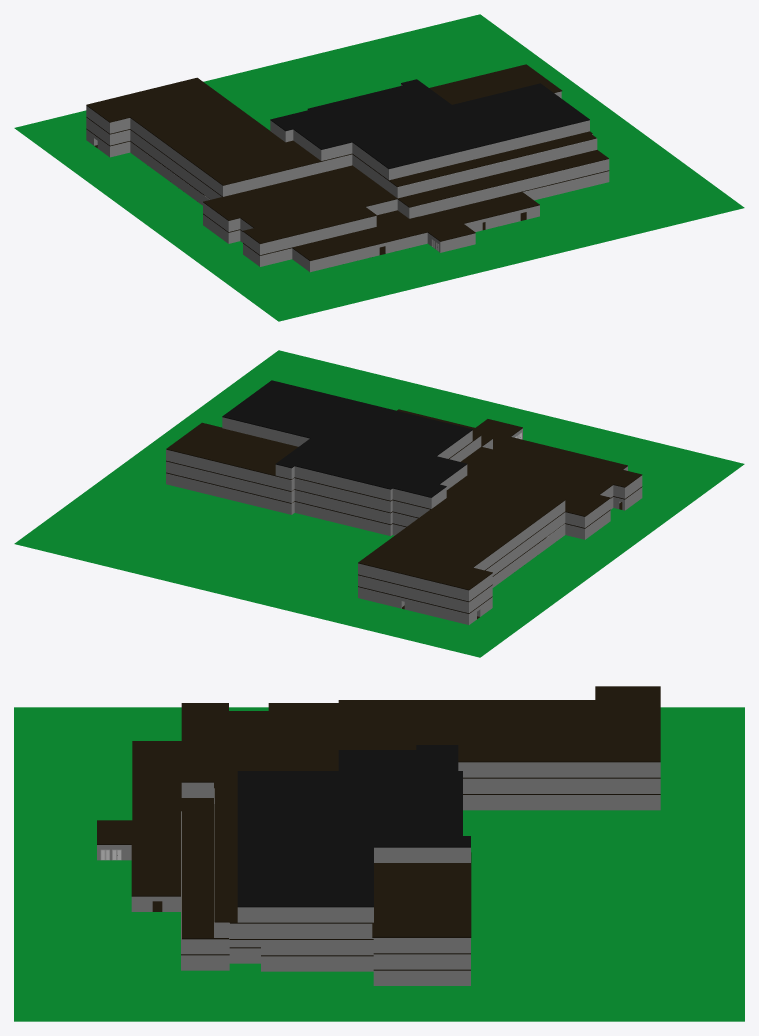
Rendered from usuLibraryFinished.fbx.
3 views of the same model, one above another, from view 1: azimuth 30°, elevation 25°; view 2: azimuth 150°, elevation 25°; view 3: azimuth 270°, elevation 25° (orthographic). The views are drawn at different scales.
Parts seen in each view (by area): view 1: LandScape, BuildingShell, BuildingShell.003, Ceiling.003, BuildingShell.002, BuildingShell.001; view 2: LandScape, BuildingShell, BuildingShell.003, Ceiling.003, BuildingShell.002, BuildingShell.001; view 3: LandScape, BuildingShell.003, Ceiling.003, BuildingShell, BuildingShell.002, BuildingShell.001.
Part boxes in pixels (x1,y1,x2,y2): LandScape: (14, 14, 744, 321); BuildingShell: (86, 84, 609, 272); BuildingShell.003: (86, 64, 596, 186); Ceiling.003: (270, 79, 589, 168); BuildingShell.002: (86, 117, 608, 243); BuildingShell.001: (86, 128, 609, 260); LandScape: (14, 350, 744, 657); BuildingShell: (166, 417, 642, 624); BuildingShell.003: (166, 422, 565, 590); Ceiling.003: (222, 380, 472, 497); BuildingShell.002: (166, 435, 642, 601); BuildingShell.001: (166, 409, 642, 613); LandScape: (14, 707, 744, 1021); BuildingShell.003: (214, 686, 660, 937); Ceiling.003: (237, 745, 470, 907); BuildingShell: (97, 762, 660, 985); BuildingShell.002: (181, 703, 660, 954); BuildingShell.001: (97, 741, 660, 970).
Size of the model in its own units: 13205 by 1605 by 12985.
